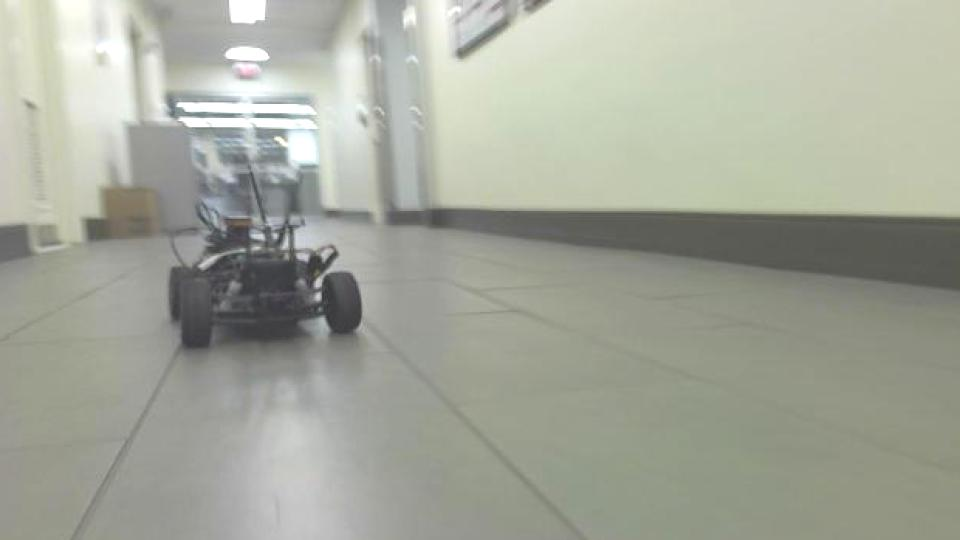car: (161, 151, 365, 351)
